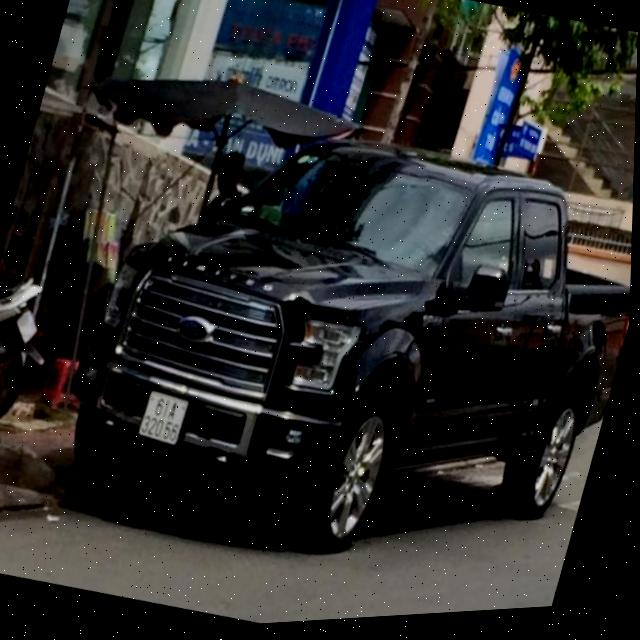car: (0, 52, 637, 639)
plate: (130, 382, 196, 454)
